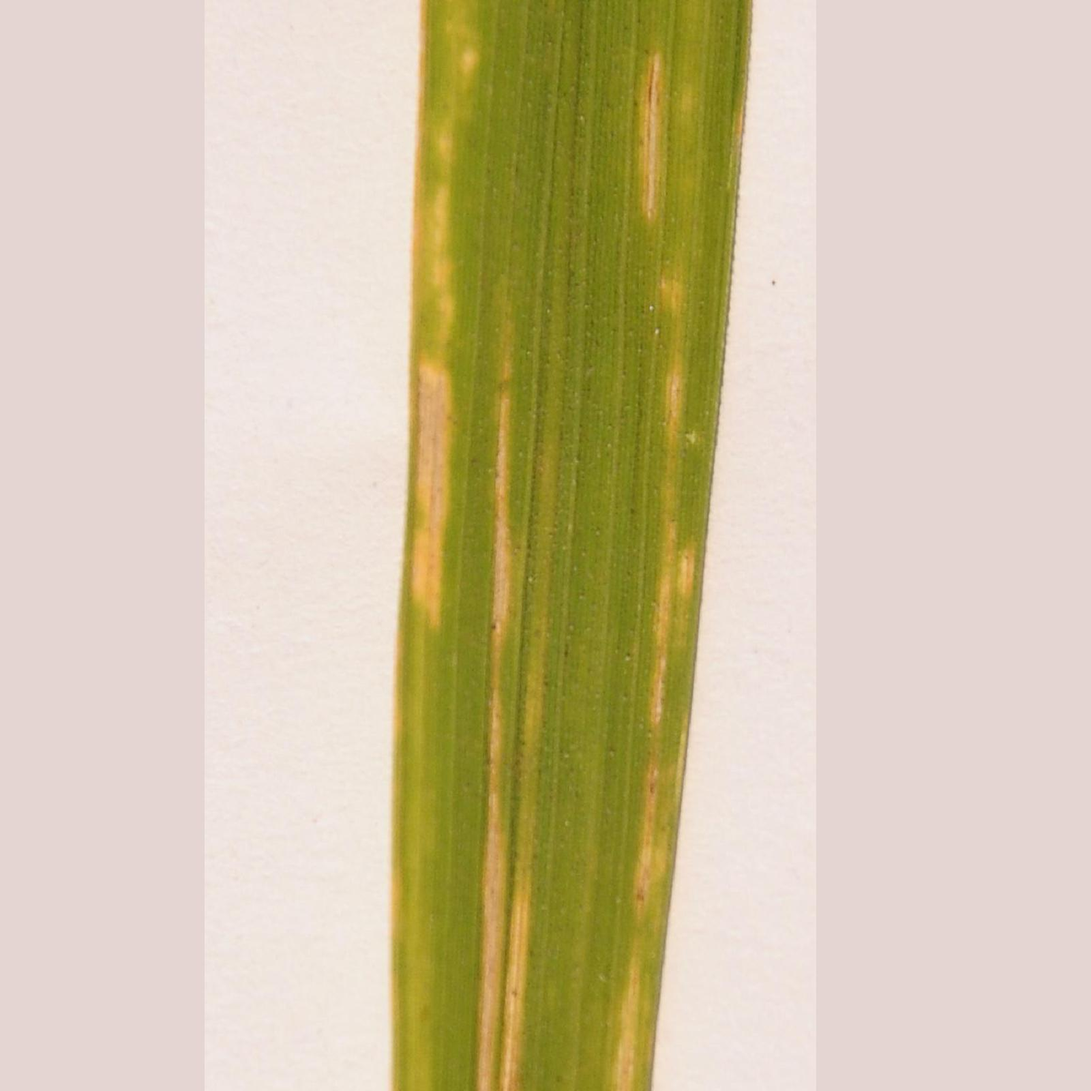BLS: (605, 259, 698, 1090), (500, 426, 558, 1090), (478, 300, 515, 1090), (409, 344, 464, 629), (644, 50, 666, 218)
LEAF: (389, 0, 753, 1090)
